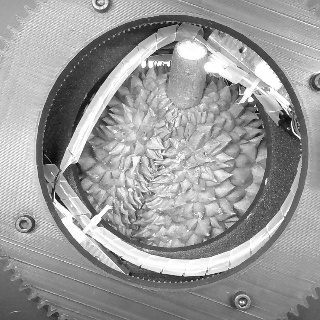base: (161, 81, 207, 115)
end: (176, 40, 208, 61)
